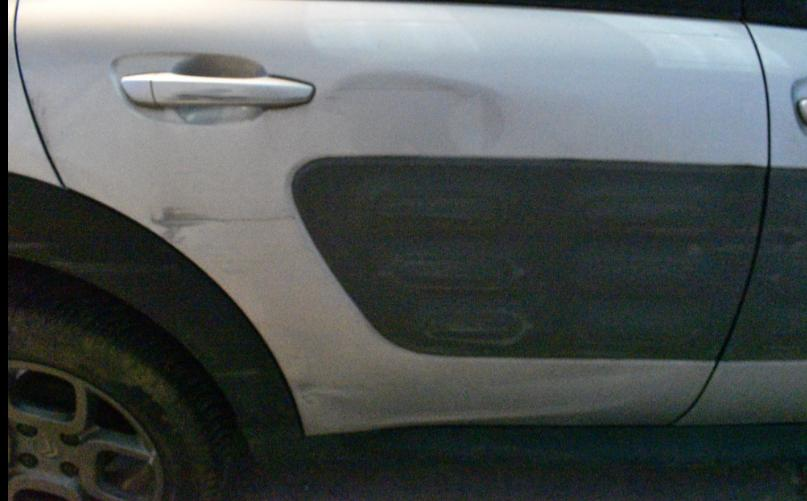Back-door: (17, 2, 768, 434)
Back-wheel: (2, 257, 251, 497)
Front-door: (676, 2, 807, 426)
Quarter-panel: (10, 3, 60, 187)
Rocker-panel: (307, 425, 806, 500)
